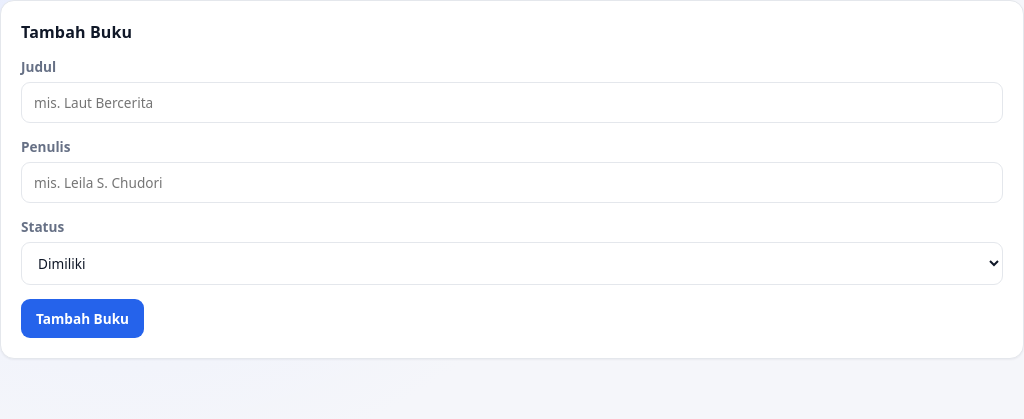
Test: BookForm › menghapus pesan error begitu user mulai mengetik
Click the button "Tambah Buku": (83, 318) [21,299,144,338]
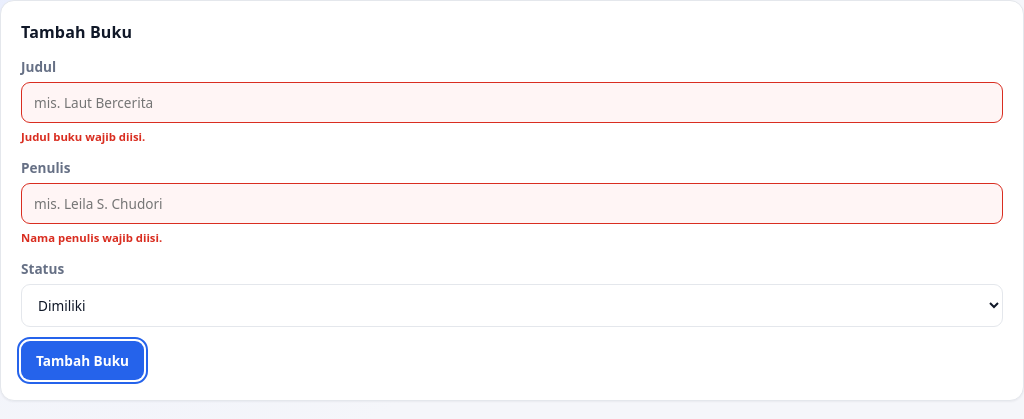
In the field labelled "Judul Judul buku wajib diisi.": (512, 102) [21,82,1003,123], type "P"
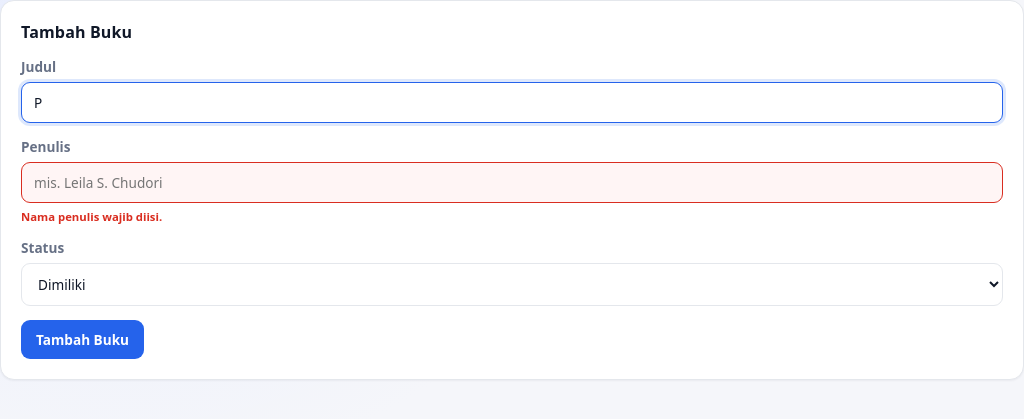
Expected: the text "Nama penulis wajib diisi." is shown, [21,209,162,224]
Expected: the text "Judul buku wajib diisi." is gone
